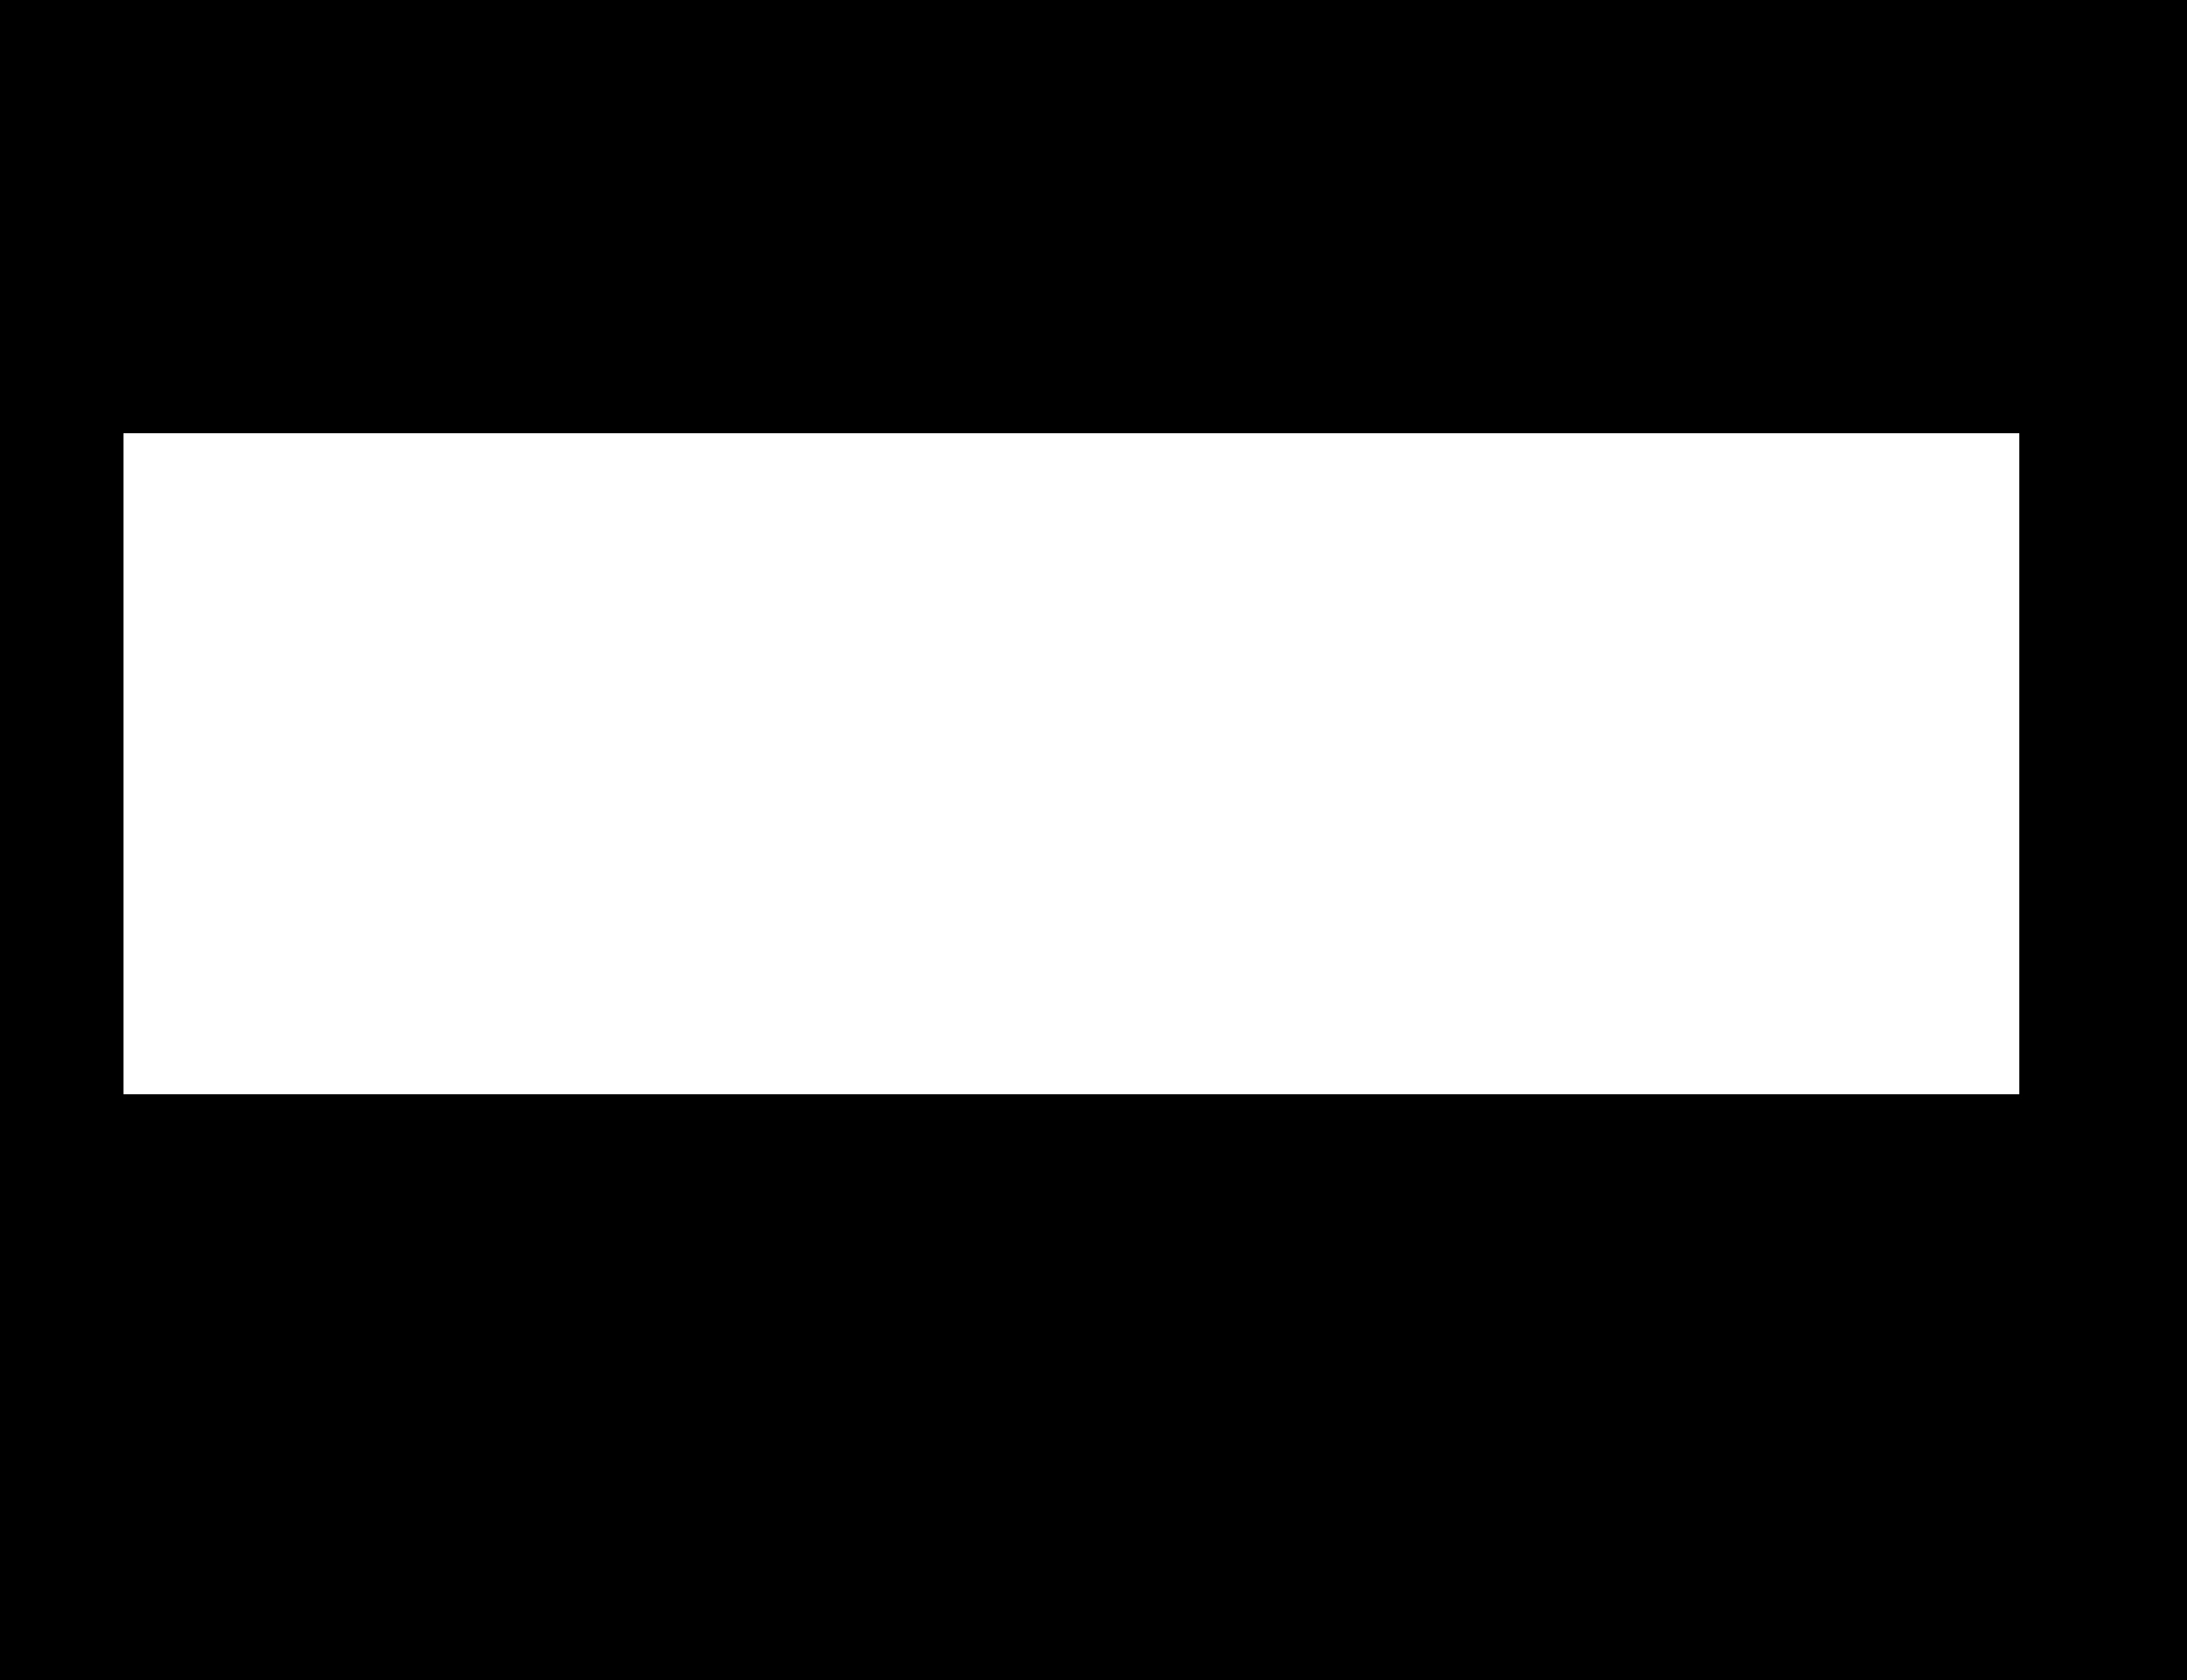table: (123, 432, 2019, 1094)
